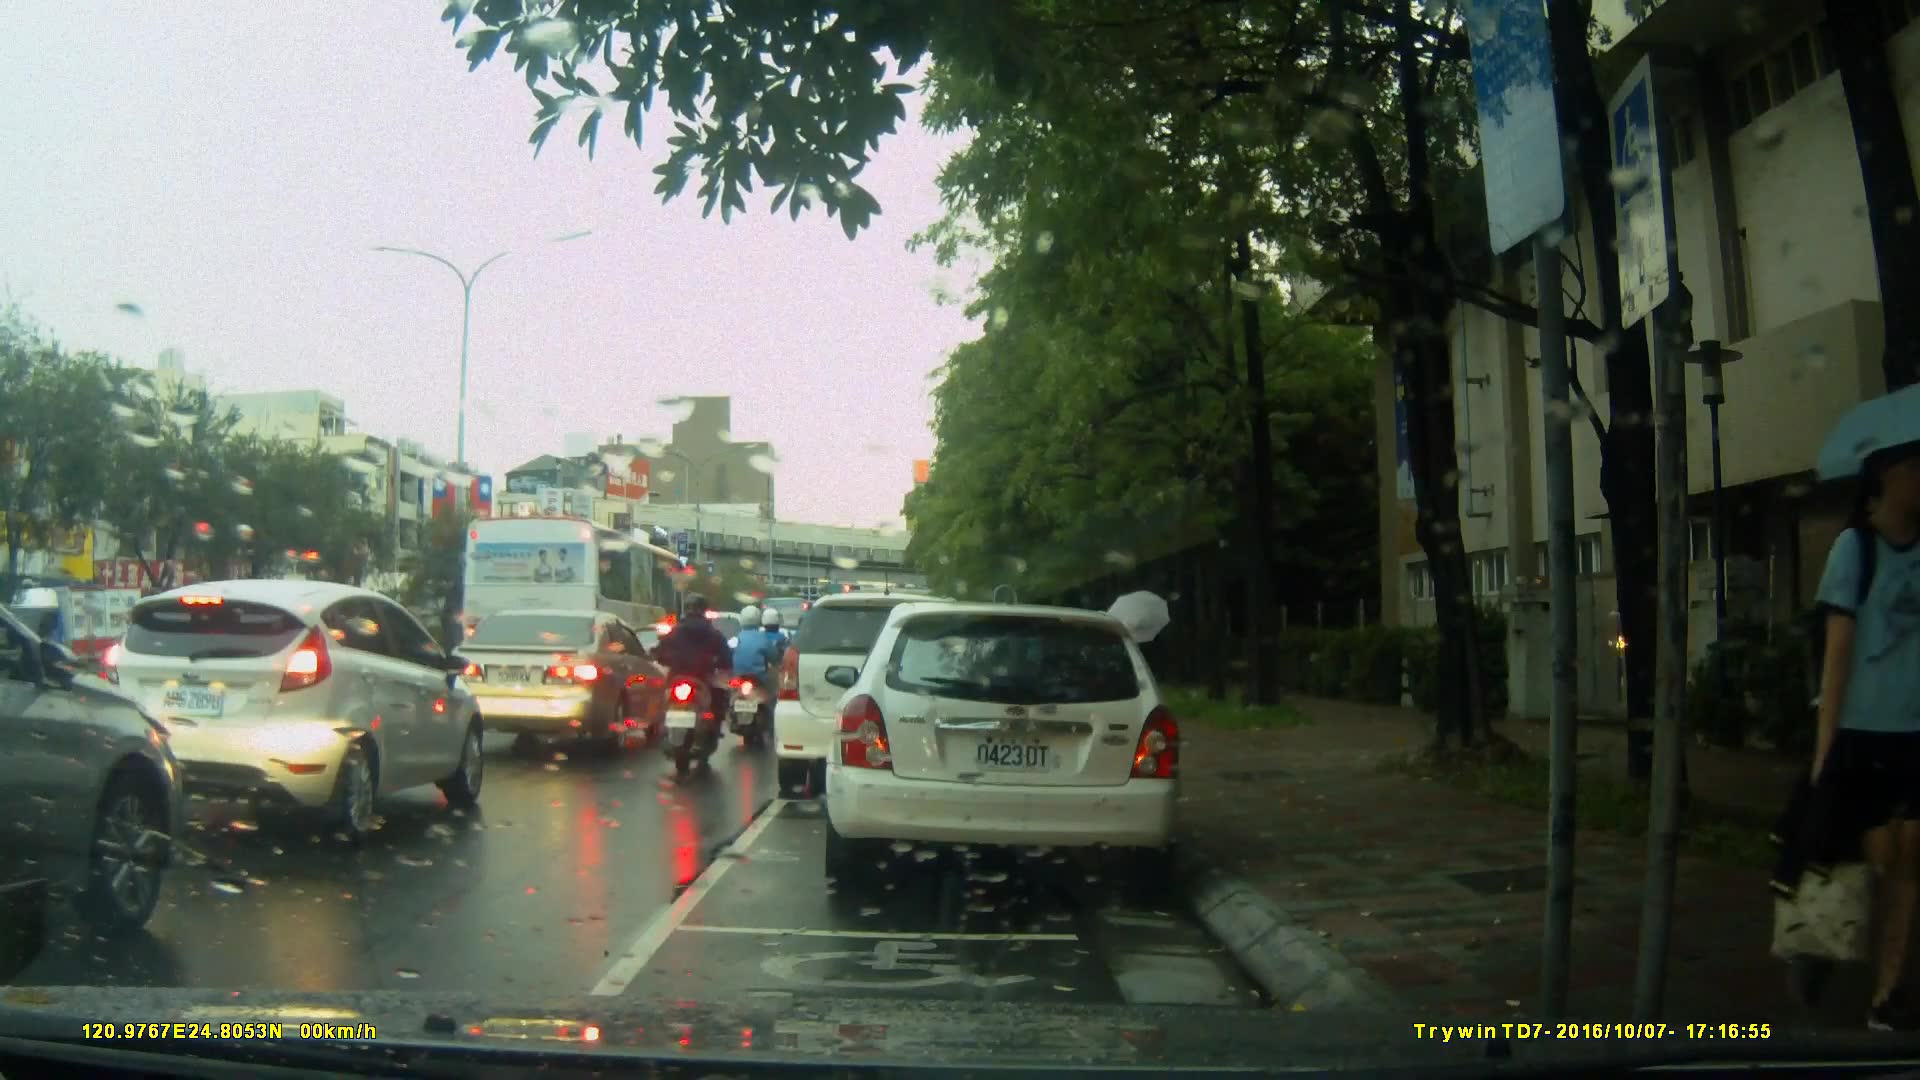pedestrian: (1777, 431, 1906, 1031)
rider: (663, 589, 741, 769), (726, 601, 776, 745), (759, 605, 796, 728)
vehicle: (835, 594, 1194, 898), (101, 577, 489, 846), (1, 547, 184, 971), (776, 590, 1026, 784), (454, 512, 694, 705), (441, 607, 674, 758), (1, 586, 154, 697), (623, 622, 732, 712)
